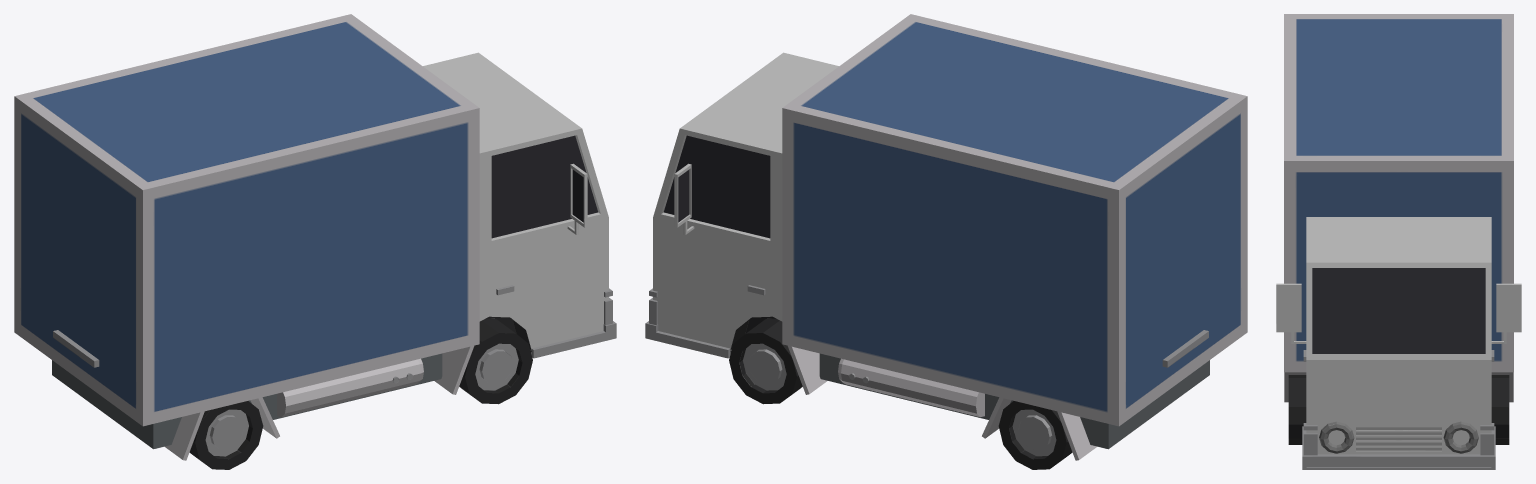
Rendered from Truck.fbx.
The picture shows the model from 3 angles, left to right: view 1: azimuth 30°, elevation 25°; view 2: azimuth 150°, elevation 25°; view 3: azimuth 270°, elevation 25°; orthographic projection. The views are drawn at different scales.
Visible parts, largest first — view 1: Truck; view 2: Truck; view 3: Truck.
Part boxes in pixels (box(x1,y1,x2,y2)): Truck: box(14, 14, 616, 469); Truck: box(645, 14, 1247, 469); Truck: box(1276, 14, 1521, 469).
Bounding box in the file's own units: 64.07 × 37.98 × 31.09.
